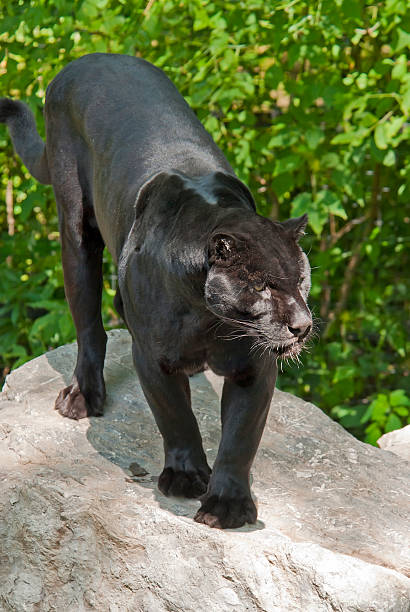panther: (190, 211, 323, 362)
